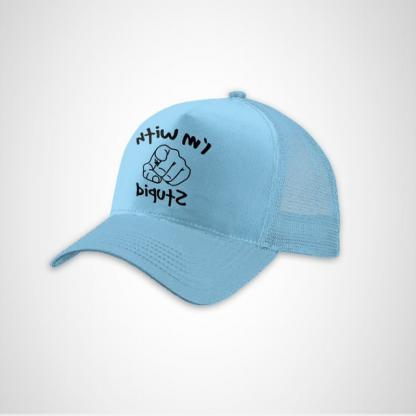cap: (43, 80, 346, 316)
